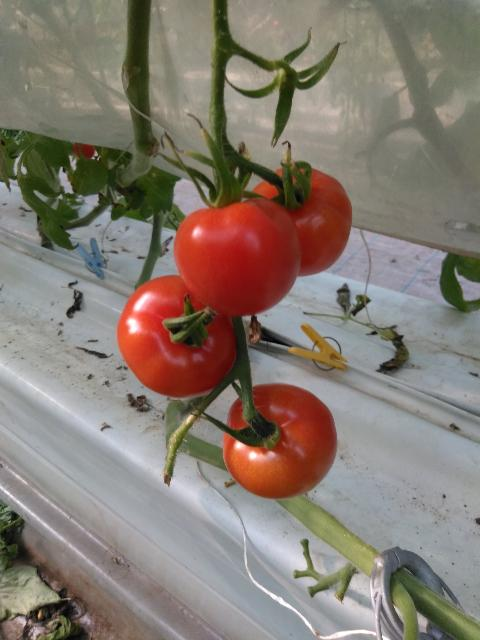l_fully_ripened: (174, 197, 301, 318), (115, 275, 237, 398), (222, 383, 338, 499), (249, 164, 352, 277)
